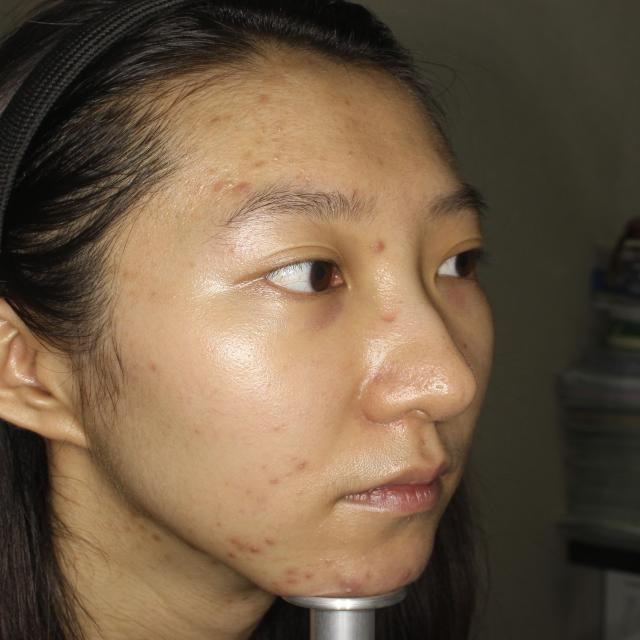pustule: (228, 170, 260, 217), (289, 452, 325, 487), (334, 567, 364, 603), (202, 163, 229, 195), (300, 563, 326, 596), (381, 309, 416, 333), (372, 234, 401, 262), (227, 530, 251, 560), (249, 526, 270, 553), (251, 86, 273, 110), (393, 564, 410, 584), (279, 563, 297, 581)
